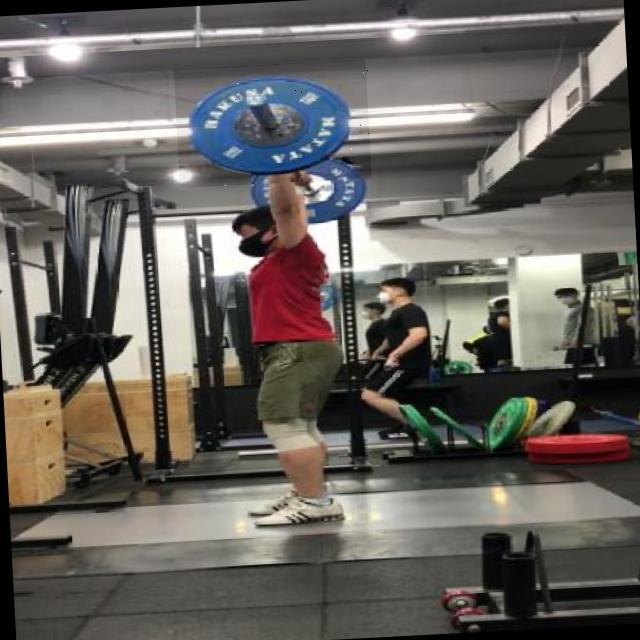barbell: (175, 60, 375, 189)
